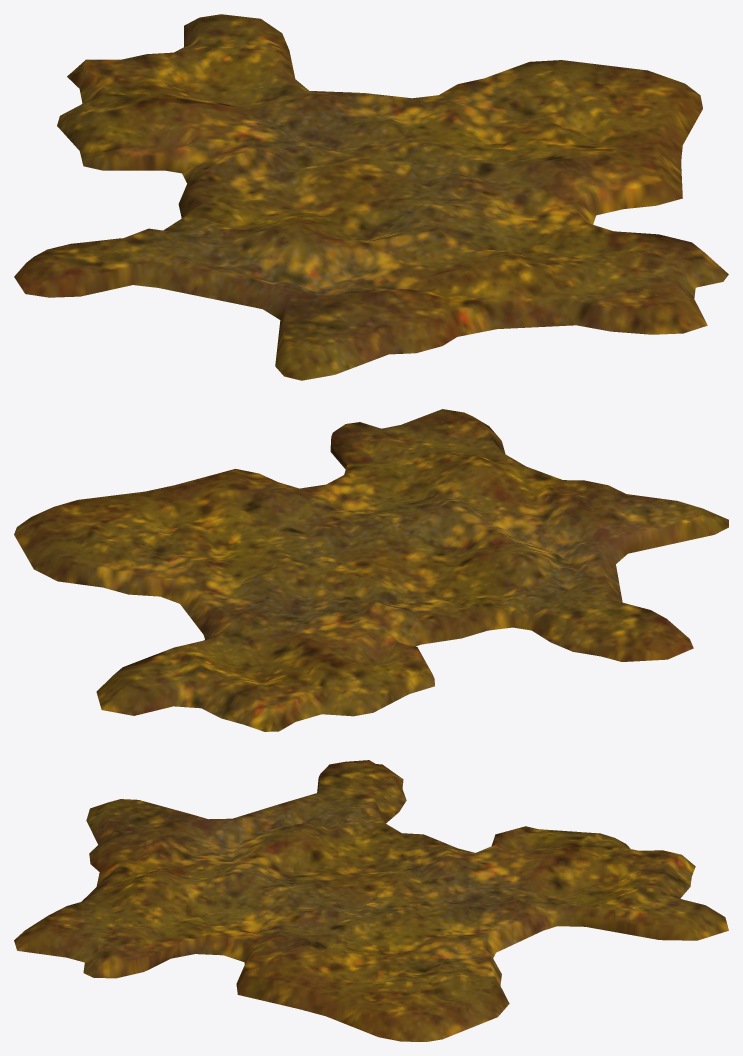
The model's file is vomit.fbx.
3 renders of one model, top to bottom at view 1: azimuth 30°, elevation 25°; view 2: azimuth 150°, elevation 25°; view 3: azimuth 270°, elevation 25°, orthographic. The views are drawn at different scales.
Visible parts, largest first — view 1: Plane001_vomit_0; view 2: Plane001_vomit_0; view 3: Plane001_vomit_0.
Part boxes in pixels (x1=…): Plane001_vomit_0: x1=14, y1=14, x2=728, y2=380; Plane001_vomit_0: x1=14, y1=409, x2=728, y2=731; Plane001_vomit_0: x1=14, y1=760, x2=728, y2=1041.
Bounding box in the file's own units: 10.3 × 0.4364 × 11.11.
Materials: 1 (1 with a texture image).
